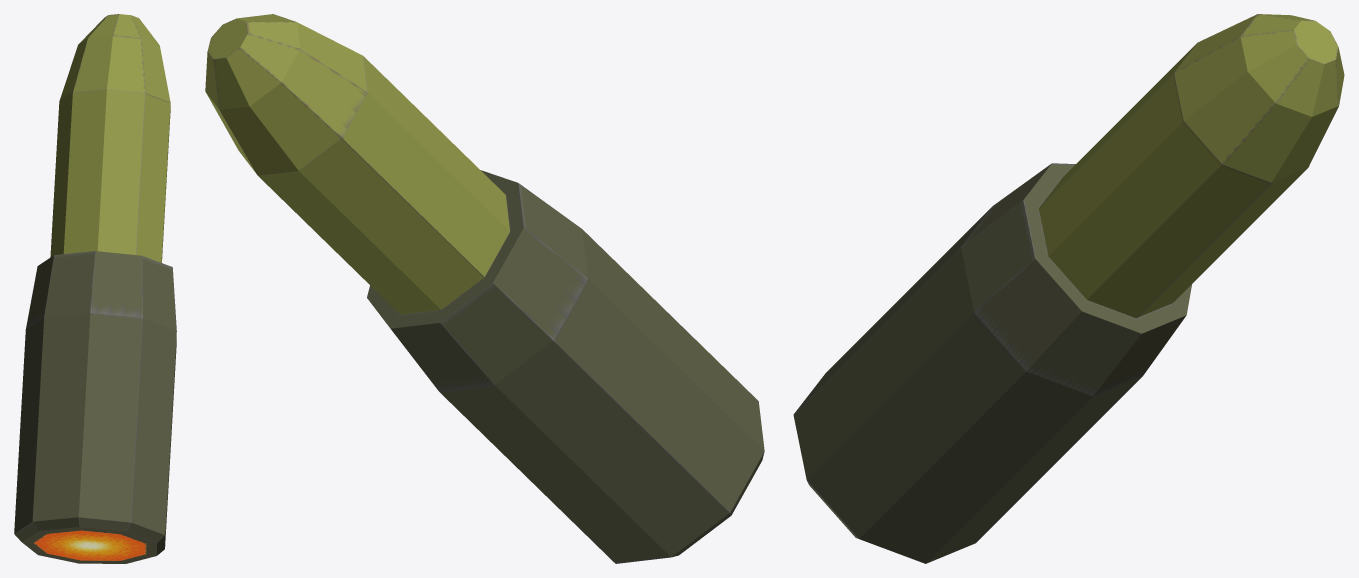
The model's file is Shell.fbx.
3 views of the same model, side by side, from view 1: azimuth 30°, elevation 25°; view 2: azimuth 150°, elevation 25°; view 3: azimuth 270°, elevation 25° (orthographic). The views are drawn at different scales.
Visible parts, largest first — view 1: Cylinder; view 2: Cylinder; view 3: Cylinder.
Part boxes in pixels (x1,y1,x2,y2): Cylinder: (14,14,176,563); Cylinder: (205,14,764,563); Cylinder: (793,14,1344,563).
Size of the model in its own units: 260 by 411 by 324.
Materials: 1 (1 with a texture image).
